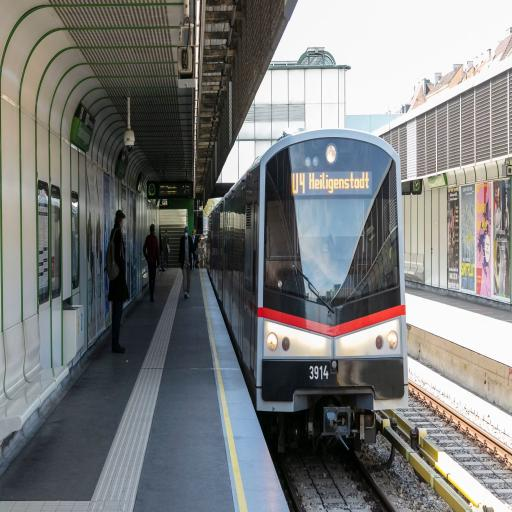V-Wagen: (206, 128, 408, 448)
